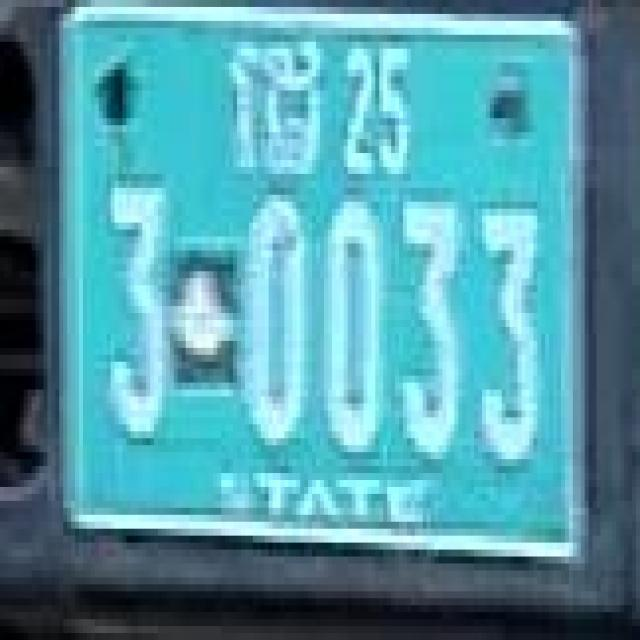State: (225, 35, 320, 185)
